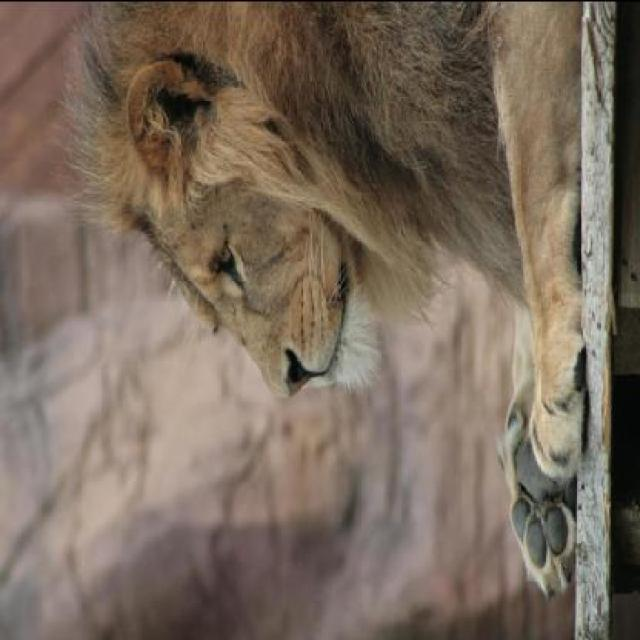Lion: (64, 2, 594, 616)
